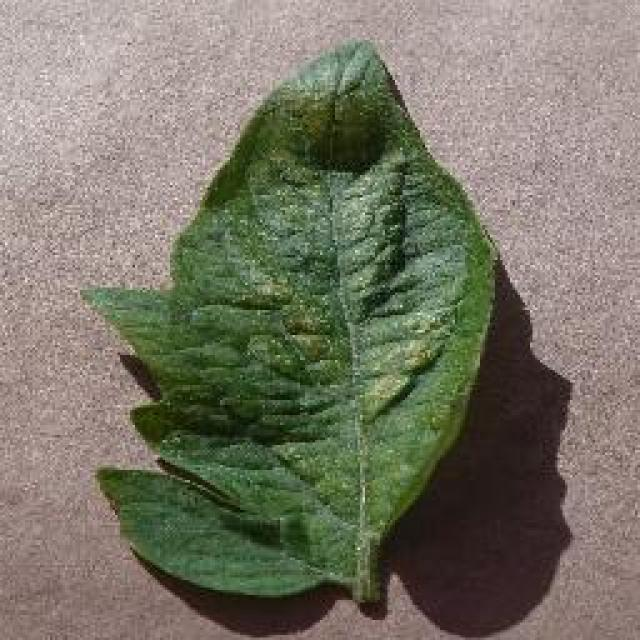Tomato spider mites leaf: (84, 33, 498, 595)
